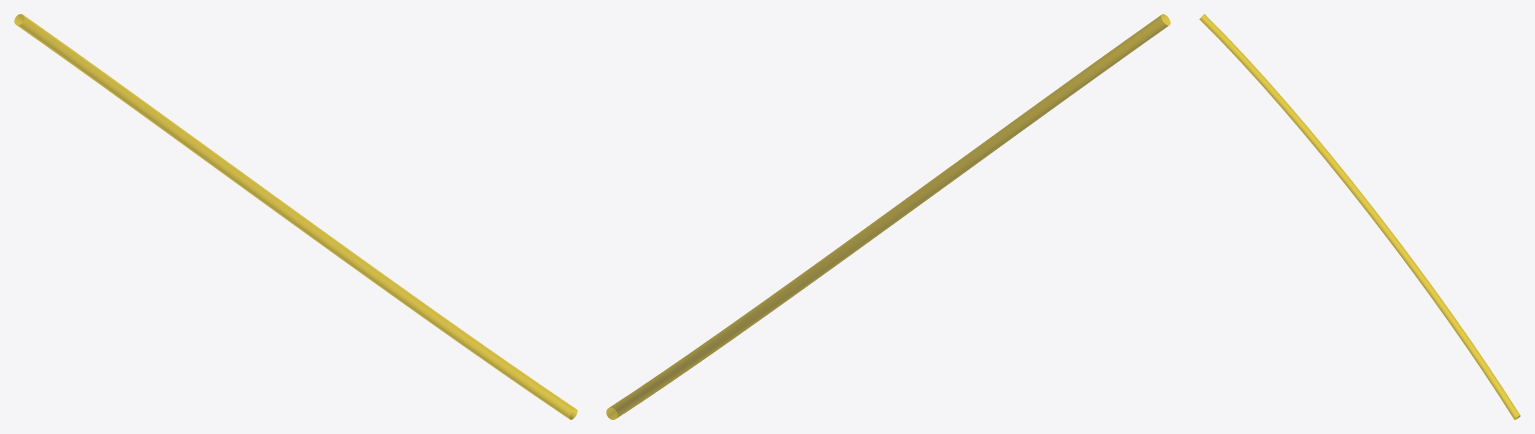
The model's file is Event_15818458_track_71.fbx.
The picture shows the model from 3 angles, left to right: view 1: azimuth 30°, elevation 25°; view 2: azimuth 150°, elevation 25°; view 3: azimuth 330°, elevation 25°; orthographic projection. The views are drawn at different scales.
Visible parts, largest first — view 1: Model; view 2: Model; view 3: Model.
Part boxes in pixels (left/top/right/bottom): Model: left=14, top=14, right=577, bottom=419; Model: left=606, top=14, right=1170, bottom=419; Model: left=1199, top=14, right=1520, bottom=419.
Size of the model in its own units: 2.01 by 1.85 by 0.2245.
